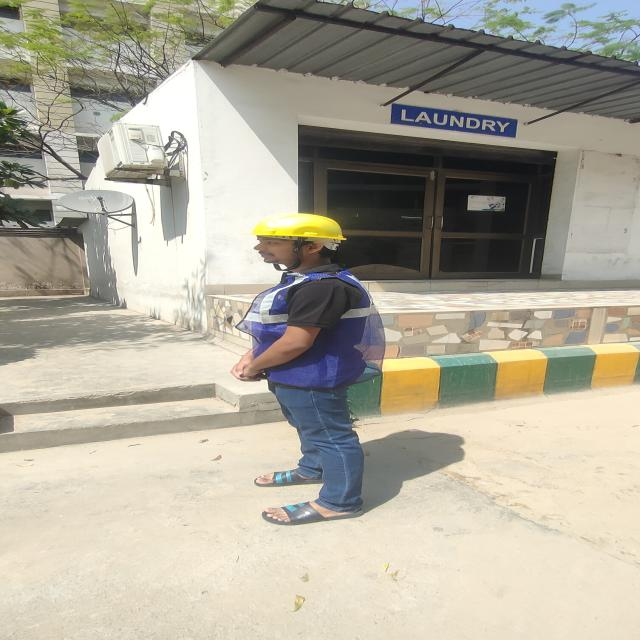safe: (234, 213, 385, 525)
